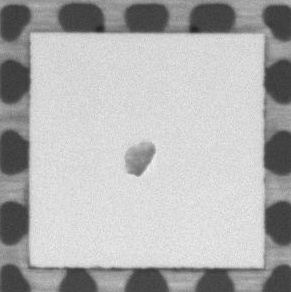DIE_INK: (122, 137, 159, 178)
